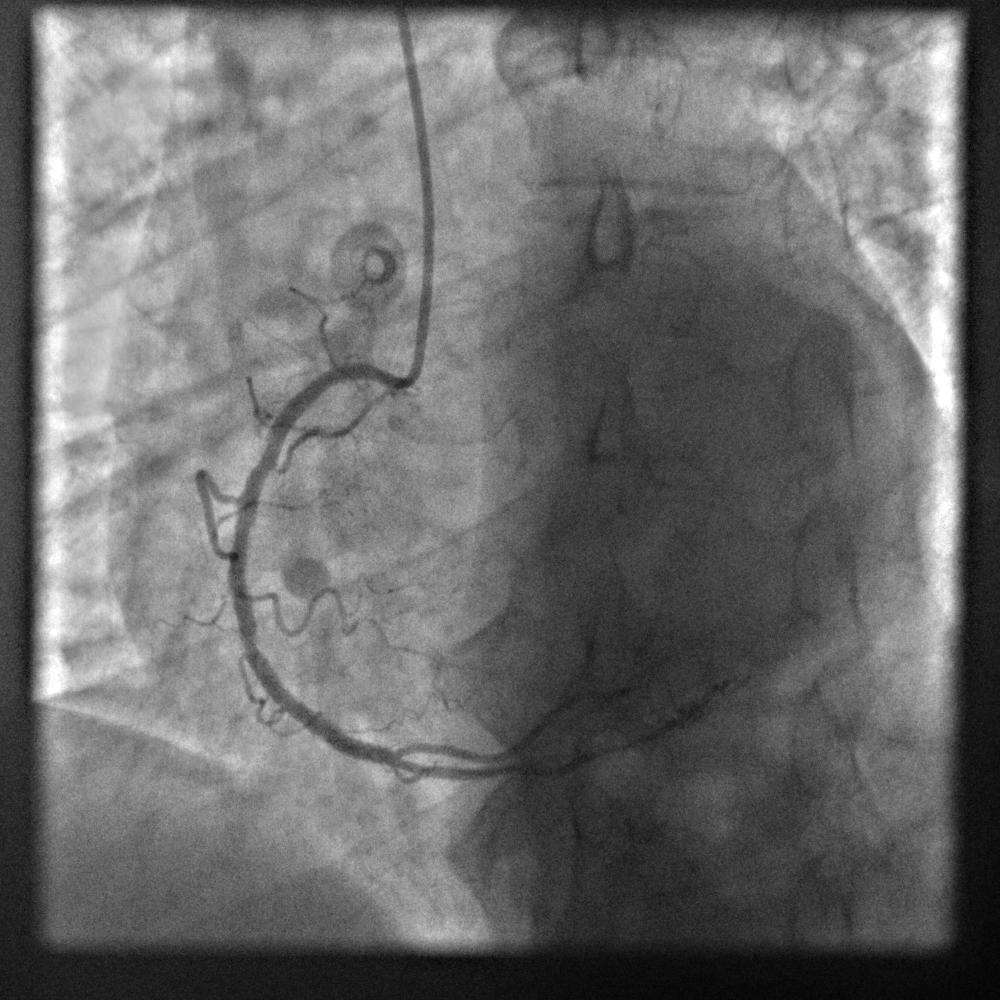Stenosis: (242, 417, 286, 487)
